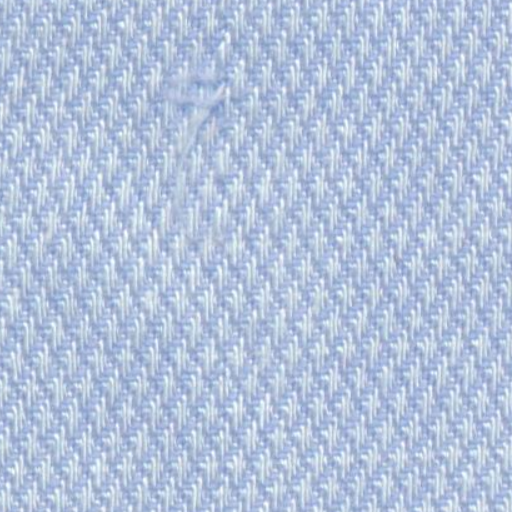DuanSha: (156, 47, 244, 192)
